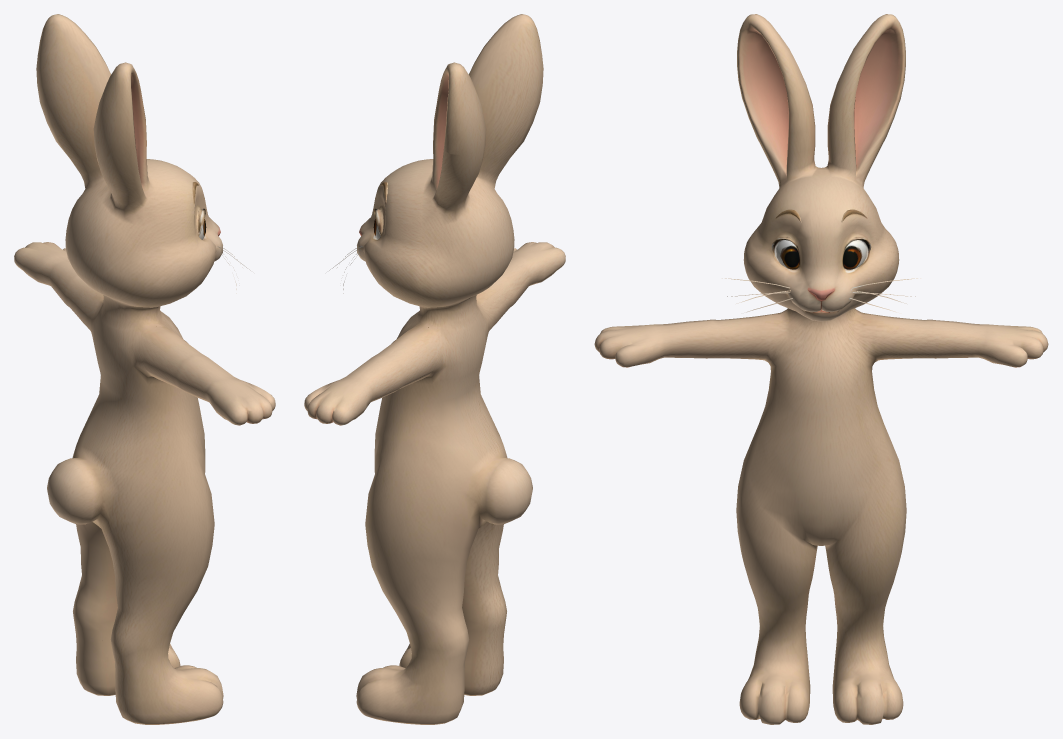
File: rabbit.fbx
The picture shows the model from 3 angles, left to right: view 1: azimuth 30°, elevation 25°; view 2: azimuth 150°, elevation 25°; view 3: azimuth 270°, elevation 25°; orthographic projection.
Parts seen in each view (by area): view 1: tripo_node_24ce6e89; view 2: tripo_node_24ce6e89; view 3: tripo_node_24ce6e89.
Part boxes in pixels (x1,y1,x2,y2): tripo_node_24ce6e89: [14, 14, 275, 724]; tripo_node_24ce6e89: [304, 14, 565, 724]; tripo_node_24ce6e89: [594, 14, 1048, 724].
Bounding box in the file's own units: 26.03 × 99.95 × 62.06.
1 material, 1 textured.
